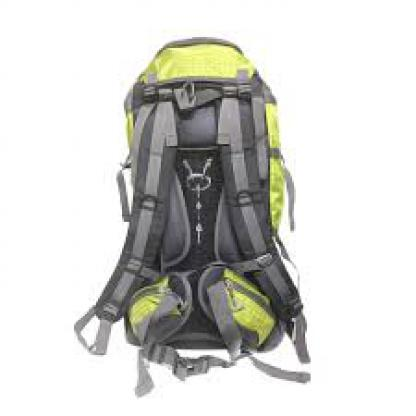morral: (65, 22, 351, 394)
